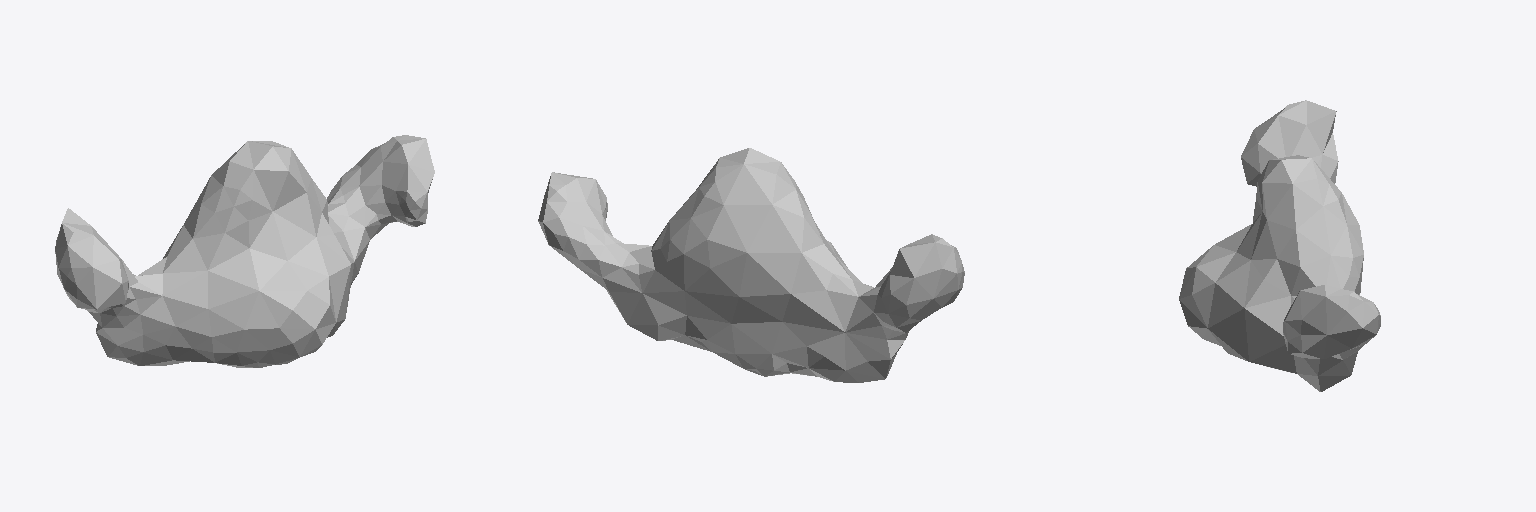
File: Cancer.obj
3 renders of one model, left to right at view 1: azimuth 30°, elevation 25°; view 2: azimuth 150°, elevation 25°; view 3: azimuth 270°, elevation 25°, orthographic.
Size of the model in its own units: 8.84 by 4.58 by 4.